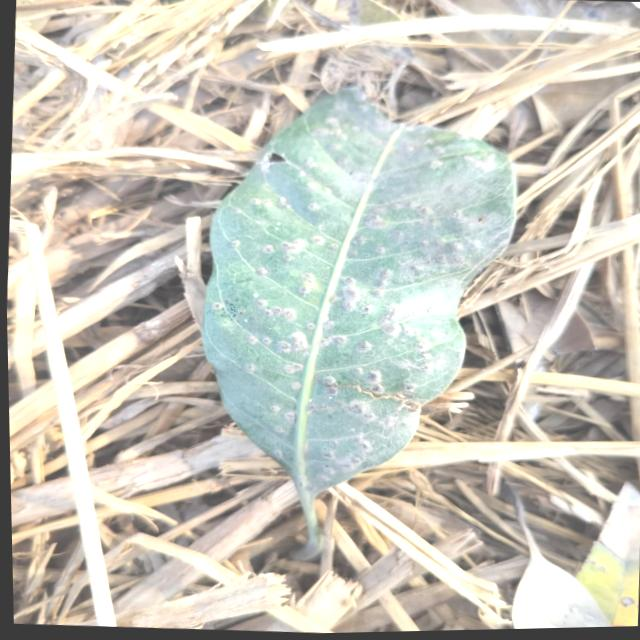gall midge: (245, 198, 431, 415)
